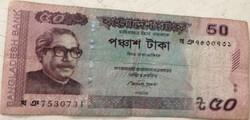50 taka: (10, 4, 246, 119)
